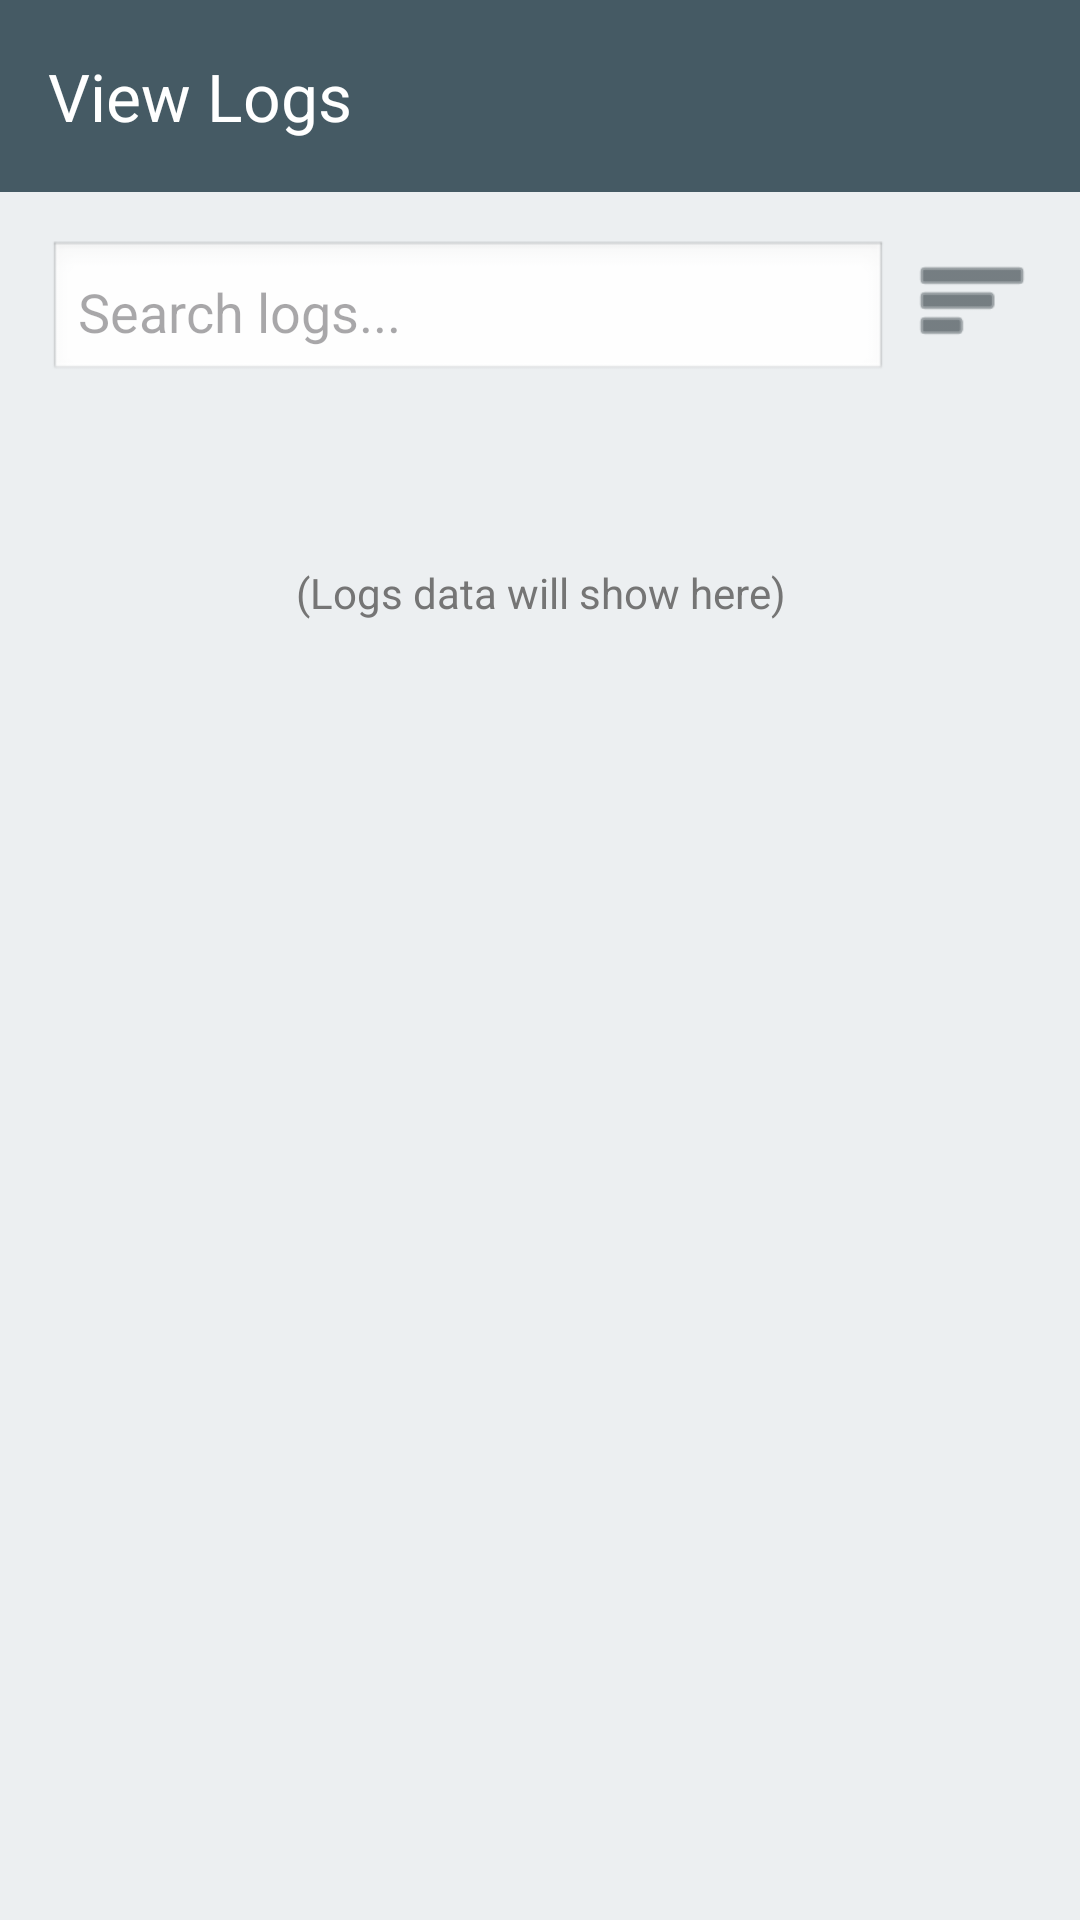

Where to tap for icons on this 1080 x 1920 app screen, as [x,y]:
sort by size: [972,300]
